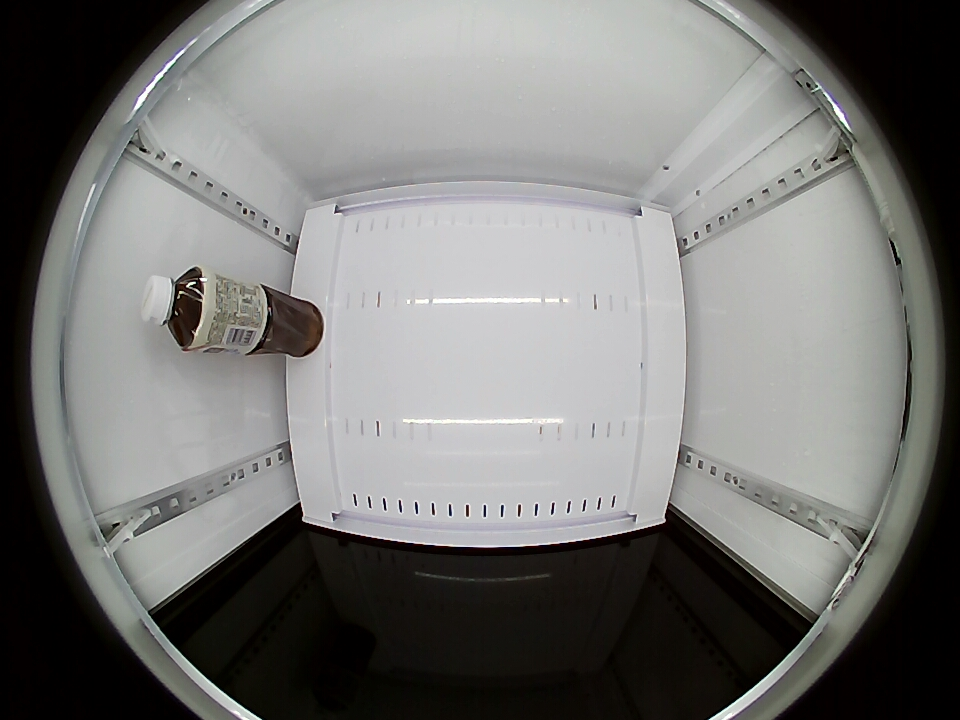wulongcha: (140, 267, 214, 351)
